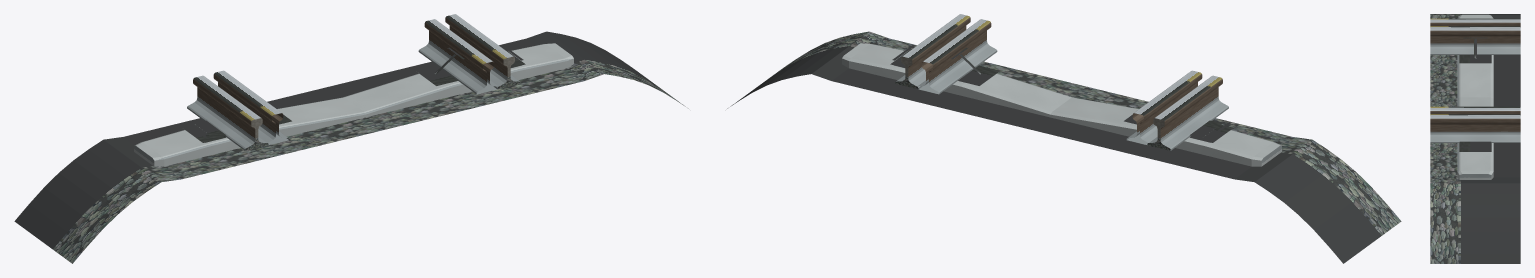
Rendered from outer_guard_low.obj.
The picture shows the model from 3 angles, left to right: view 1: azimuth 30°, elevation 25°; view 2: azimuth 150°, elevation 25°; view 3: azimuth 270°, elevation 25°; orthographic projection. The views are drawn at different scales.
Visible parts, largest first — view 1: ballast, sleeper, outer_guard_right, rail_left, outer_guard_left, rail_right, outer_fastener_right; view 2: ballast, sleeper, outer_guard_right, rail_left, outer_guard_left, rail_right, outer_fastener_right; view 3: ballast, sleeper, rail_right, outer_guard_left, rail_left, outer_guard_right, outer_fastener_left, fastener_right, outer_fastener_right.
Part boxes in pixels (x1=…): ballast: x1=14, y1=31, x2=688, y2=263; sleeper: x1=134, y1=43, x2=573, y2=166; outer_guard_right: x1=418, y1=19, x2=498, y2=94; rail_left: x1=187, y1=75, x2=266, y2=150; outer_guard_left: x1=213, y1=70, x2=289, y2=144; rail_right: x1=445, y1=14, x2=519, y2=88; outer_fastener_right: x1=416, y1=47, x2=525, y2=85; ballast: x1=727, y1=31, x2=1401, y2=263; sleeper: x1=842, y1=43, x2=1281, y2=166; outer_guard_right: x1=917, y1=19, x2=997, y2=94; rail_left: x1=1149, y1=75, x2=1228, y2=150; outer_guard_left: x1=1126, y1=70, x2=1202, y2=144; rail_right: x1=896, y1=14, x2=970, y2=88; outer_fastener_right: x1=890, y1=47, x2=999, y2=85; ballast: x1=1430, y1=14, x2=1520, y2=263; sleeper: x1=1457, y1=14, x2=1493, y2=179; rail_right: x1=1430, y1=114, x2=1520, y2=142; outer_guard_left: x1=1430, y1=26, x2=1520, y2=54; rail_left: x1=1430, y1=18, x2=1520, y2=26; outer_guard_right: x1=1430, y1=106, x2=1520, y2=114; outer_fastener_left: x1=1459, y1=37, x2=1491, y2=63; fastener_right: x1=1459, y1=141, x2=1491, y2=147; outer_fastener_right: x1=1459, y1=143, x2=1491, y2=151.
Size of the model in its own units: 3.7 by 0.5683 by 0.6.
